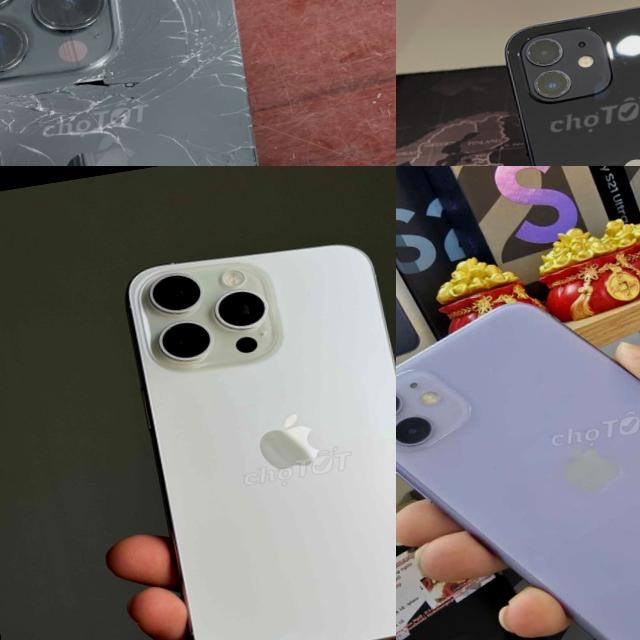gen_11: (396, 304, 640, 640)
gen_12_13: (495, 0, 640, 166)
gen_14: (0, 0, 320, 166)
gen_15: (91, 214, 396, 640)
